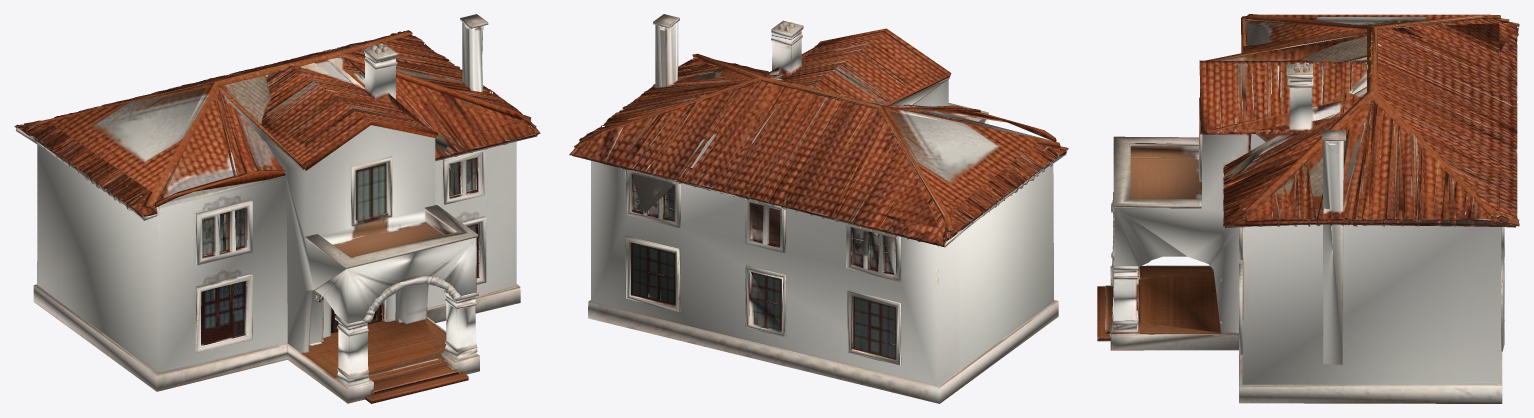
Rendered from warden_house.glb.
3 views of the same model, side by side, from view 1: azimuth 30°, elevation 25°; view 2: azimuth 150°, elevation 25°; view 3: azimuth 270°, elevation 25° (orthographic). The views are drawn at different scales.
Size of the model in its own units: 21.97 by 14.17 by 19.31.
1 material, 1 textured.
